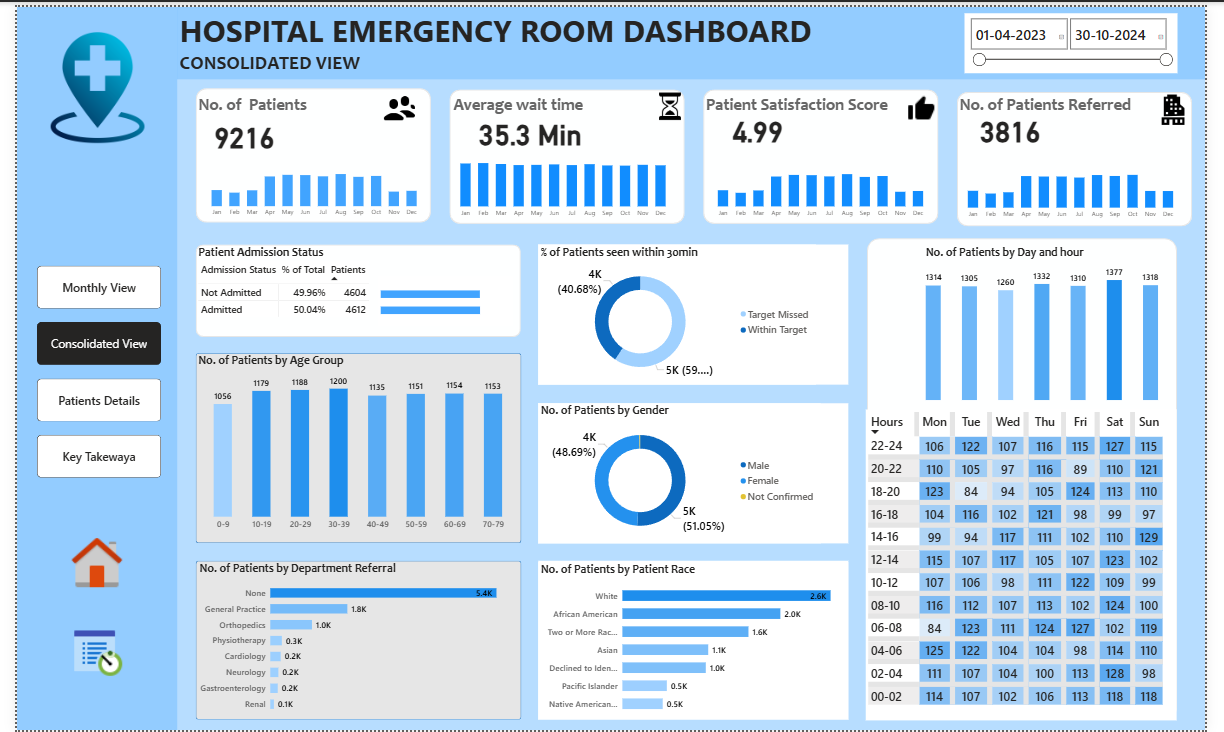

What the dashboard file says about the page in this screenshot:
{"tool":"powerbi","page":{"name":"Consolidated View","canvas":[2300,1400],"ordinal":1},"visuals":[{"type":"shape","box":[0,0,310,1400.5],"z":0},{"type":"shape","box":[309.6,0,1990.7,140],"z":1000},{"type":"textbox","box":[309.6,0,1990.7,140.3],"z":2000},{"type":"textbox","box":[309.6,79.8,372.5,60.5],"z":3000},{"type":"shape","box":[345,157.5,455,260],"z":4000},{"type":"card","fields":{"Values":["Hospital ER_Data.No. of Patients"]},"box":[265,115,347.5,260],"z":5000},{"type":"slicer","fields":{"Values":["Date Table.Date"]},"box":[1833.5,12.1,411.2,116.1],"z":6000},{"type":"textbox","box":[345,165,302.5,110],"z":7000},{"type":"columnChart","fields":{"Category":["Date Table.Month"],"Y":["Hospital ER_Data.No. of Patients"]},"box":[358.5,280.7,435,135],"z":8000},{"type":"shape","box":[836.7,160,455,260],"z":9000},{"type":"textbox","box":[840,165,302.5,117.5],"z":10000},{"type":"columnChart","fields":{"Category":["Date Table.Month"],"Y":["Avg(Hospital ER_Data.Patient Waittime)"]},"box":[839.3,280.6,435.4,135.5],"z":11000},{"type":"shape","box":[1328.3,160,455,260],"z":12000},{"type":"textbox","box":[1327.5,165,400,55],"z":13000},{"type":"columnChart","fields":{"Category":["Date Table.Month"],"Y":["Hospital ER_Data.No. of Patients"]},"box":[1337.6,280.6,435.4,135.5],"z":14000},{"type":"shape","box":[1820,165,455,260],"z":15000},{"type":"textbox","box":[1820,165,360,60],"z":16000},{"type":"columnChart","fields":{"Y":["Hospital ER_Data.No. of Patients Referred"],"Category":["Date Table.Month"]},"box":[1821.4,283,435.4,135.5],"z":17000},{"type":"card","fields":{"Values":["Hospital ER_Data.Avg Wait Time"]},"box":[880,192.5,225,95],"z":18000},{"type":"card","fields":{"Values":["Hospital ER_Data.Satisfaction Score"]},"box":[1320,187.5,225,95],"z":19000},{"type":"card","fields":{"Values":["Hospital ER_Data.No. of Patients Referred"]},"box":[1810,187.5,225,95],"z":20000},{"type":"shape","box":[345.9,459.6,628.9,179],"z":21000},{"type":"barChart","fields":{"Category":["Hospital ER_Data.Admission Status"],"Y":["Hospital ER_Data.No. of Patients"]},"box":[700,520,260,97.5],"z":22000},{"type":"shape","box":[345,1072.5,630,307.5],"z":23000},{"type":"shape","box":[345,670,630,367.5],"z":24000},{"type":"clusteredColumnChart","fields":{"Category":["Hospital ER_Data.Age Group"],"Y":["Hospital ER_Data.No. of Patients"]},"box":[345,670,630,352.5],"z":25000},{"type":"clusteredBarChart","fields":{"Category":["Hospital ER_Data.Department Referral"],"Y":["Hospital ER_Data.No. of Patients"]},"box":[347.5,1072.5,612.5,305],"z":26000},{"type":"pivotTable","title":"Patient Admission Status","fields":{"Rows":["Hospital ER_Data.Admission Status"],"Values":["Hospital ER_Data.No. of Patients","Hospital ER_Data.No. of Patients1"]},"box":[1008.6,459.6,599.9,270.9],"z":27000},{"type":"pivotTable","title":"Patient Admission Status","fields":{"Rows":["Hospital ER_Data.Admission Status"],"Values":["Hospital ER_Data.No. of Patients","Hospital ER_Data.No. of Patients1"]},"box":[345.9,459.6,628.9,179],"z":28000},{"type":"donutChart","title":"% of Patients seen within 30min","fields":{"Category":["Hospital ER_Data.Wait Time Status"],"Y":["Hospital ER_Data.No. of Patients"]},"box":[1008.6,459.6,537,270.9],"z":29000},{"type":"pivotTable","title":"Patient Admission Status","fields":{"Rows":["Hospital ER_Data.Admission Status"],"Values":["Hospital ER_Data.No. of Patients","Hospital ER_Data.No. of Patients1"]},"box":[1008.6,766.8,599.9,270.9],"z":30000},{"type":"donutChart","title":"No. of Patients by Gender","fields":{"Y":["Hospital ER_Data.No. of Patients"],"Category":["Hospital ER_Data.Patient Gender"]},"box":[1008.6,766.8,546.7,270.9],"z":31000},{"type":"pivotTable","title":"Patient Admission Status","fields":{"Rows":["Hospital ER_Data.Admission Status"],"Values":["Hospital ER_Data.No. of Patients","Hospital ER_Data.No. of Patients1"]},"box":[1008.6,1071.5,599.9,307.2],"z":32000},{"type":"shape","box":[1644.8,447.5,599.9,931.2],"z":33000},{"type":"clusteredBarChart","fields":{"Category":["Hospital ER_Data.Patient Race"],"Y":["Hospital ER_Data.No. of Patients"]},"box":[1008.6,1074,599.9,304.8],"z":34000},{"type":"pivotTable","fields":{"Rows":["Hospital ER_Data.Waittime Interval"],"Columns":["Date Table.Day Name"],"Values":["Hospital ER_Data.No. of Patients"]},"box":[1642.2,779.2,601.6,601.6],"z":35000},{"type":"columnChart","title":"No. of Patients by Day and hour","fields":{"Category":["Date Table.Day Name"],"Y":["Hospital ER_Data.No. of Patients"]},"box":[1753.6,459.6,462,307.2],"z":36000},{"type":"image","box":[36.3,43.5,239.5,224.9],"z":37000},{"type":"pageNavigator","box":[37.5,500,240,412.5],"z":38000},{"type":"image","box":[699,159.6,82.2,75],"z":38001},{"type":"image","box":[1231.2,157.2,65,70],"z":38002},{"type":"image","box":[1717.4,162.1,65.3,70.1],"z":38003},{"type":"image","box":[2198.7,159.6,77,78],"z":38004},{"type":"image","box":[94.3,1008.6,120.9,140.3],"z":38005},{"type":"image","box":[96.8,1180.4,120.9,140.3],"z":38006}]}

Visuals, with their boxes in screenshot pixels (x1, y1, x2, y2), scaled from the page's 2300x1400 canvas onto the 1224x732 screenshot:
shape: 0, 0, 165, 731
shape: 165, 0, 1223, 73
textbox: 165, 0, 1223, 73
textbox: 165, 42, 363, 73
shape: 184, 82, 426, 218
card - Hospital ER_Data.No. of Patients: 141, 60, 326, 196
slicer - Date Table.Date: 976, 6, 1195, 67
textbox: 184, 86, 345, 144
columnChart - Date Table.Month x Hospital ER_Data.No. of Patients: 191, 147, 422, 217
shape: 445, 84, 687, 220
textbox: 447, 86, 608, 148
columnChart - Date Table.Month x Avg(Hospital ER_Data.Patient Waittime): 447, 147, 678, 218
shape: 707, 84, 949, 220
textbox: 706, 86, 919, 115
columnChart - Date Table.Month x Hospital ER_Data.No. of Patients: 712, 147, 944, 218
shape: 969, 86, 1211, 222
textbox: 969, 86, 1160, 118
columnChart - Hospital ER_Data.No. of Patients Referred x Date Table.Month: 969, 148, 1201, 219
card - Hospital ER_Data.Avg Wait Time: 468, 101, 588, 150
card - Hospital ER_Data.Satisfaction Score: 702, 98, 822, 148
card - Hospital ER_Data.No. of Patients Referred: 963, 98, 1083, 148
shape: 184, 240, 519, 334
barChart - Hospital ER_Data.Admission Status x Hospital ER_Data.No. of Patients: 373, 272, 511, 323
shape: 184, 561, 519, 722
shape: 184, 350, 519, 542
clusteredColumnChart - Hospital ER_Data.Age Group x Hospital ER_Data.No. of Patients: 184, 350, 519, 535
clusteredBarChart - Hospital ER_Data.Department Referral x Hospital ER_Data.No. of Patients: 185, 561, 511, 720
"Patient Admission Status" pivotTable: 537, 240, 856, 382
"Patient Admission Status" pivotTable: 184, 240, 519, 334
"% of Patients seen within 30min" donutChart: 537, 240, 823, 382
"Patient Admission Status" pivotTable: 537, 401, 856, 543
"No. of Patients by Gender" donutChart: 537, 401, 828, 543
"Patient Admission Status" pivotTable: 537, 560, 856, 721
shape: 875, 234, 1195, 721
clusteredBarChart - Hospital ER_Data.Patient Race x Hospital ER_Data.No. of Patients: 537, 562, 856, 721
pivotTable - Hospital ER_Data.Waittime Interval x Date Table.Day Name: 874, 407, 1194, 722
"No. of Patients by Day and hour" columnChart: 933, 240, 1179, 401
image: 19, 23, 147, 140
pageNavigator: 20, 261, 148, 477
image: 372, 83, 416, 123
image: 655, 82, 690, 119
image: 914, 85, 949, 121
image: 1170, 83, 1211, 124
image: 50, 527, 115, 601
image: 52, 617, 116, 691
